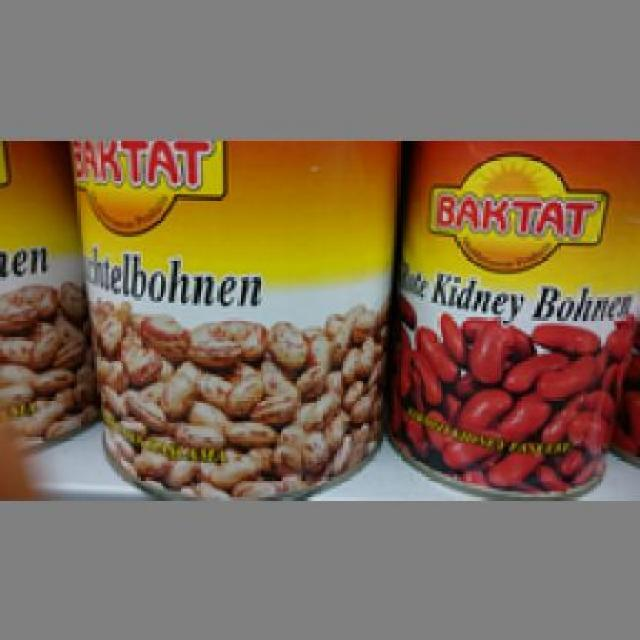Beans: (68, 134, 394, 494), (402, 137, 635, 500)
